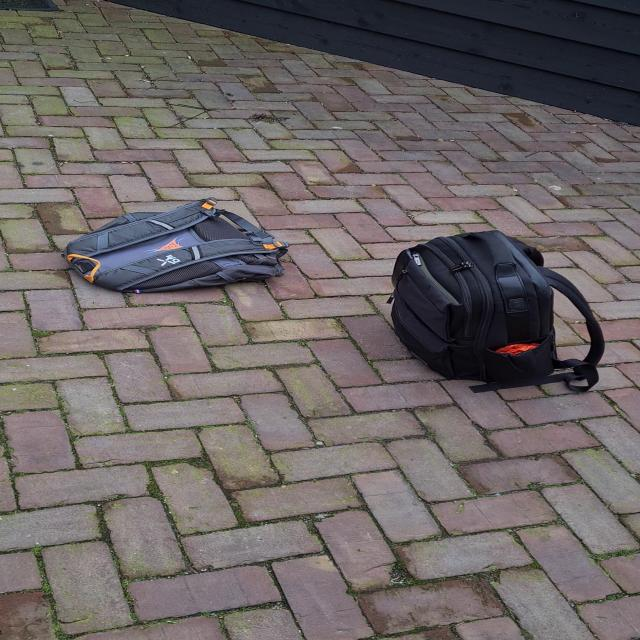backpack: (377, 228, 599, 396), (58, 202, 294, 300)
